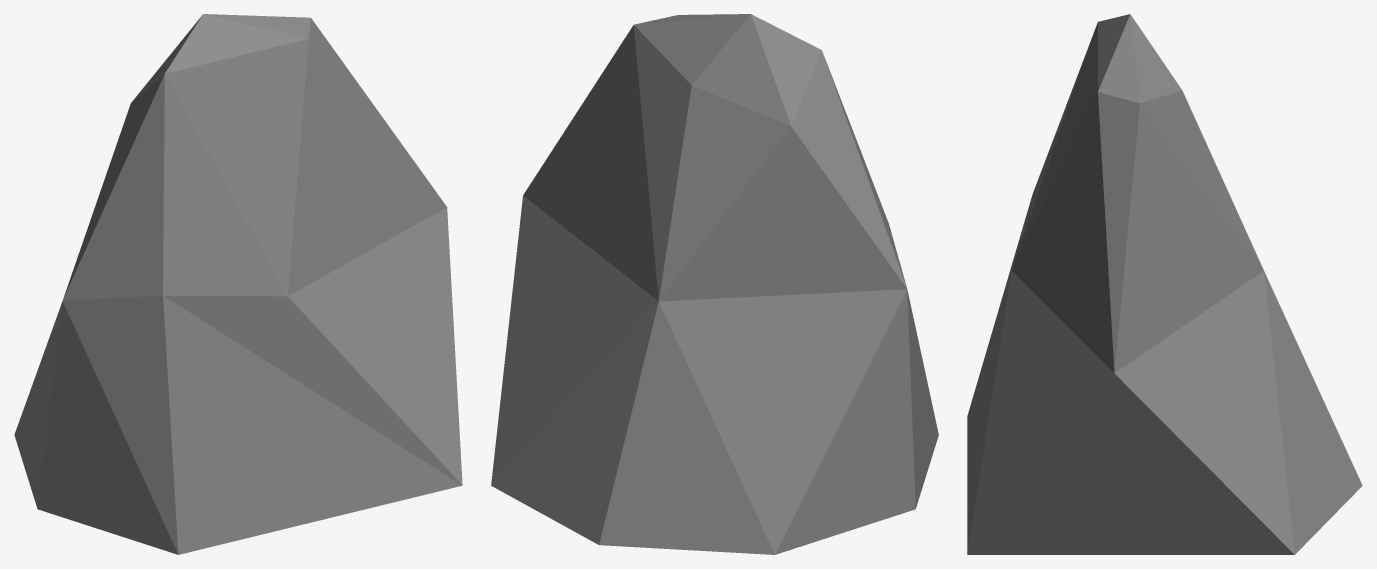
Rendered from rock_02_d.fbx.
The picture shows the model from 3 angles, left to right: view 1: azimuth 30°, elevation 25°; view 2: azimuth 150°, elevation 25°; view 3: azimuth 270°, elevation 25°; orthographic projection.
Visible parts, largest first — view 1: Rock_02_d; view 2: Rock_02_d; view 3: Rock_02_d.
Part boxes in pixels (x1,y1,x2,y2): Rock_02_d: [14, 14, 462, 554]; Rock_02_d: [491, 14, 938, 554]; Rock_02_d: [967, 14, 1362, 554].
Size of the model in its own units: 4.95 by 4.23 by 5.49.
